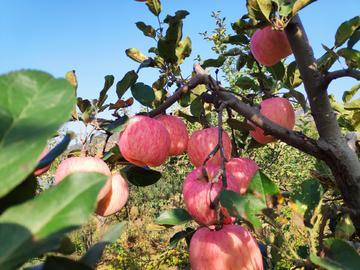apple: (187, 223, 264, 270), (183, 166, 238, 224), (119, 115, 170, 167), (55, 157, 111, 203), (248, 97, 295, 142), (250, 24, 291, 66), (189, 128, 232, 166), (93, 171, 129, 216), (153, 113, 188, 157), (225, 157, 261, 195)
